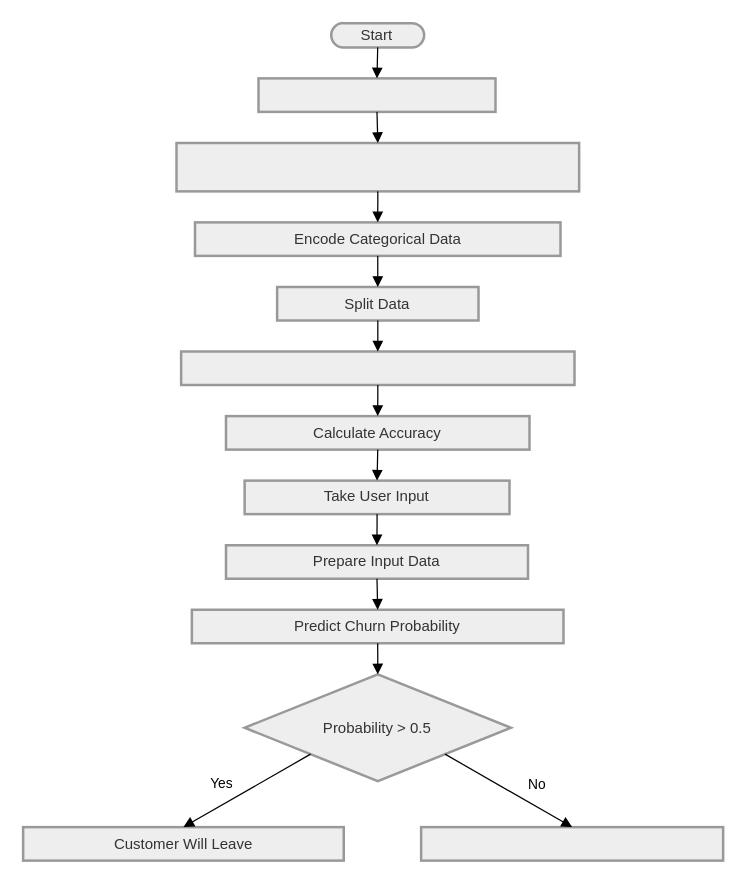
Image size: 745x883. Some labels were removed from this diagram. The centre of each missing label's shape, as x and y in pixels:
"Customer Will Stay" belongs at pixel 571 843.
"Load Dataset" belongs at pixel 376 94.
"Remove Unnecessary Columns" belongs at pixel 377 166.
"Train Random Forest Model" belongs at pixel 377 368.
